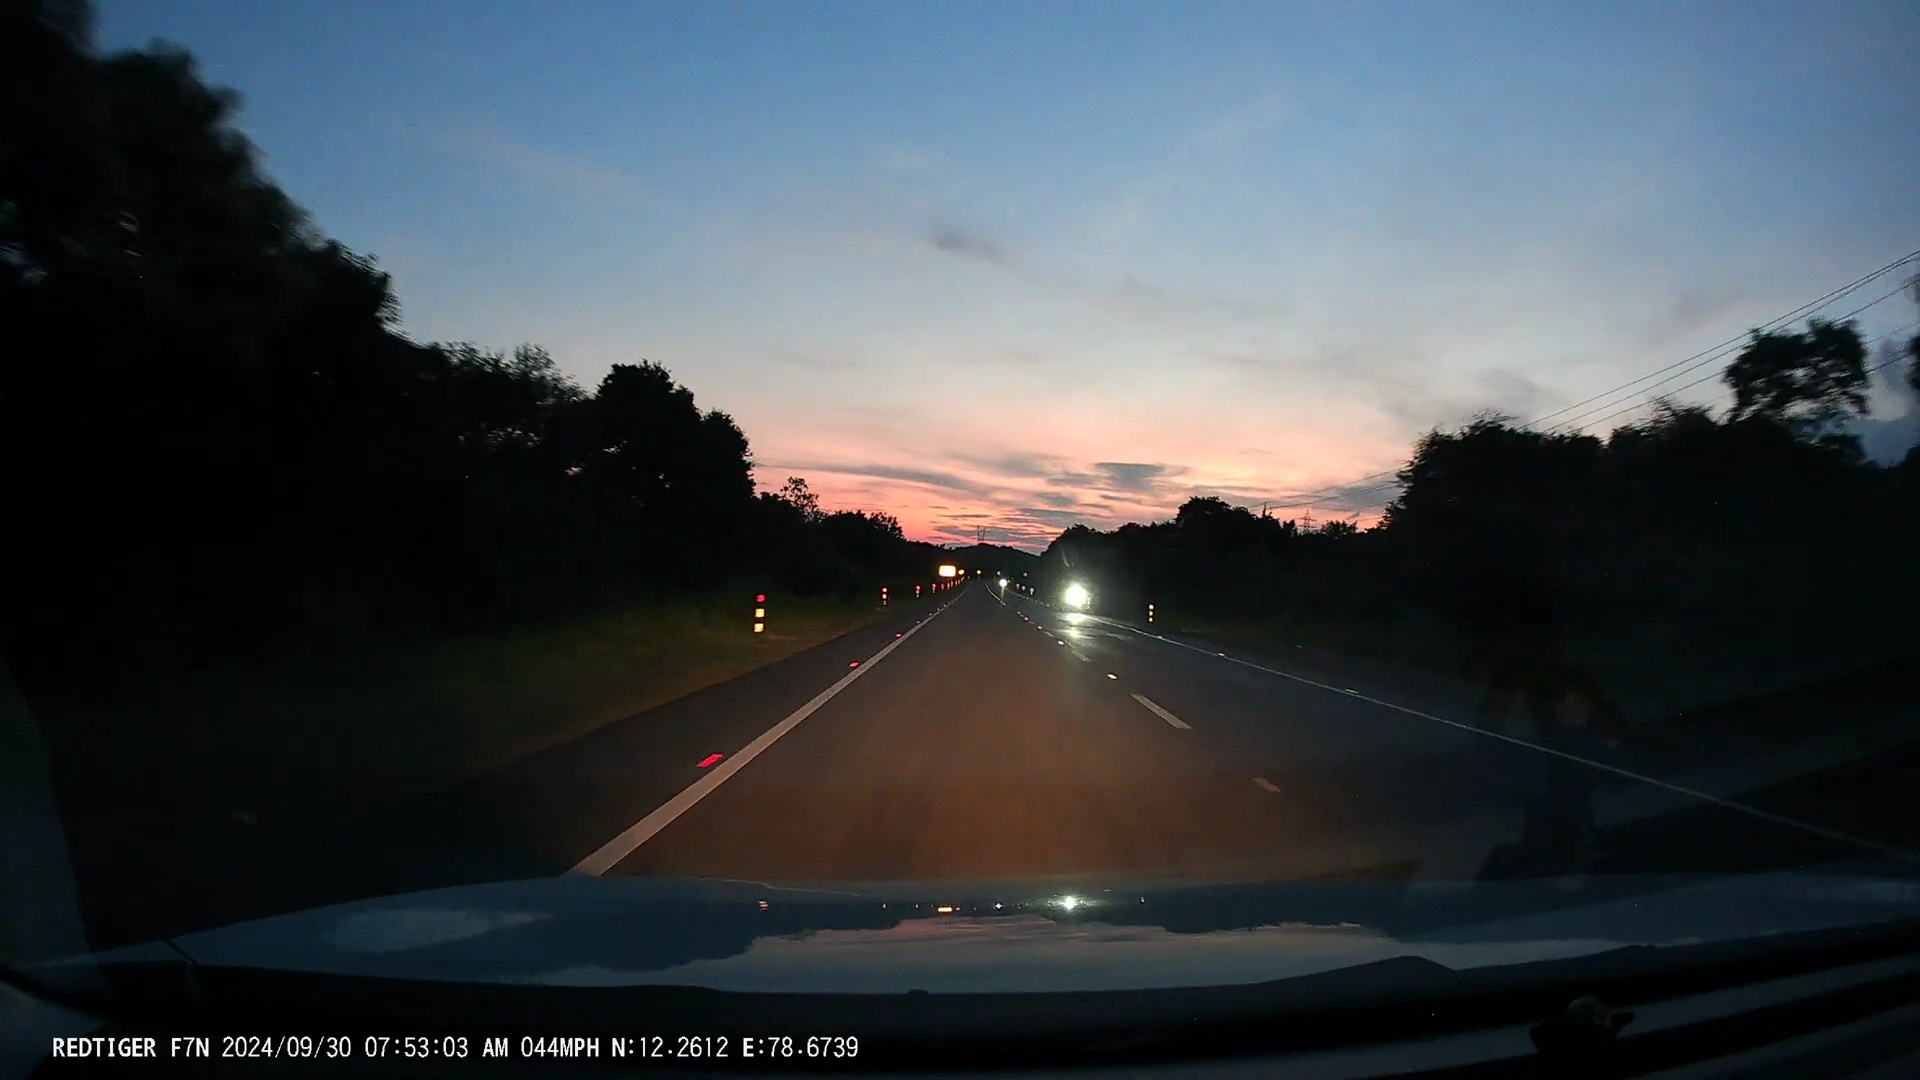headlight: (1063, 580, 1084, 608), (998, 578, 1007, 589)
two wheeler: (1056, 564, 1093, 622), (993, 564, 1011, 603)
